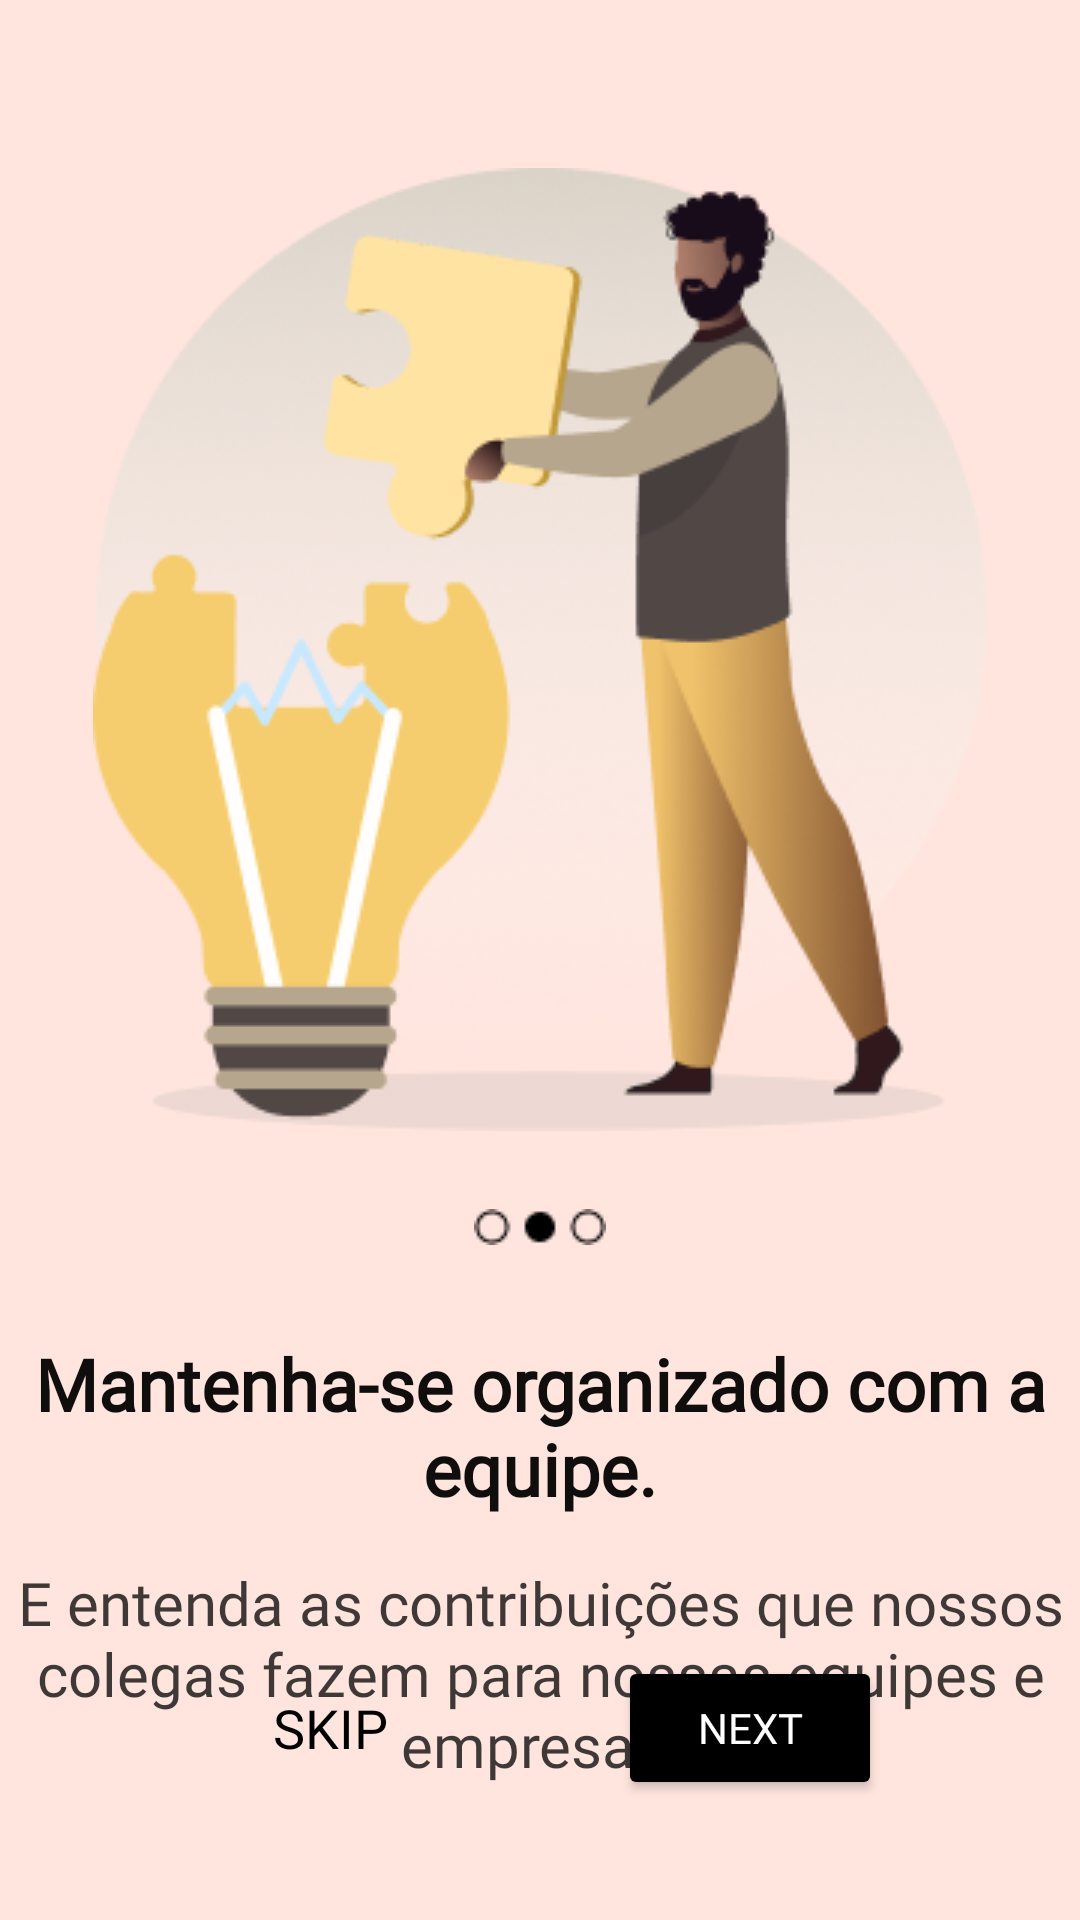

Screen size 1080px x 1920px. Icon name, then its center in pixels as (x=x, y=y):
second roll view: (x=540, y=1227)
